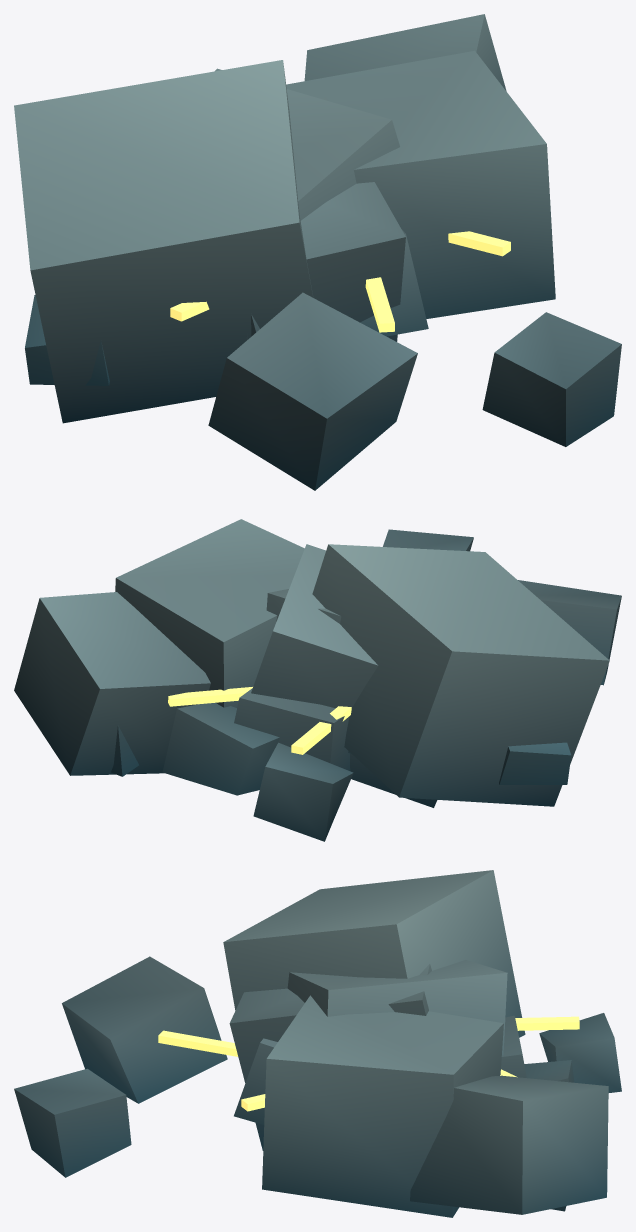
Rendered from prop_glow_rubble.glb.
The picture shows the model from 3 angles, top to bottom: view 1: azimuth 30°, elevation 25°; view 2: azimuth 150°, elevation 25°; view 3: azimuth 270°, elevation 25°; orthographic projection. The views are drawn at different scales.
Parts seen in each view (by area): view 1: prop_glow_rubble_stone, prop_glow_rubble_amber; view 2: prop_glow_rubble_stone, prop_glow_rubble_amber; view 3: prop_glow_rubble_stone, prop_glow_rubble_amber.
Boxes of the visible parts, box(x1,y1,x2,y2) form: prop_glow_rubble_stone: box(14, 14, 621, 490); prop_glow_rubble_amber: box(170, 231, 510, 332); prop_glow_rubble_stone: box(14, 519, 621, 841); prop_glow_rubble_amber: box(168, 687, 351, 754); prop_glow_rubble_stone: box(14, 870, 621, 1217); prop_glow_rubble_amber: box(158, 1016, 579, 1111).
Size of the model in its own units: 3.6 by 1.59 by 3.75.
